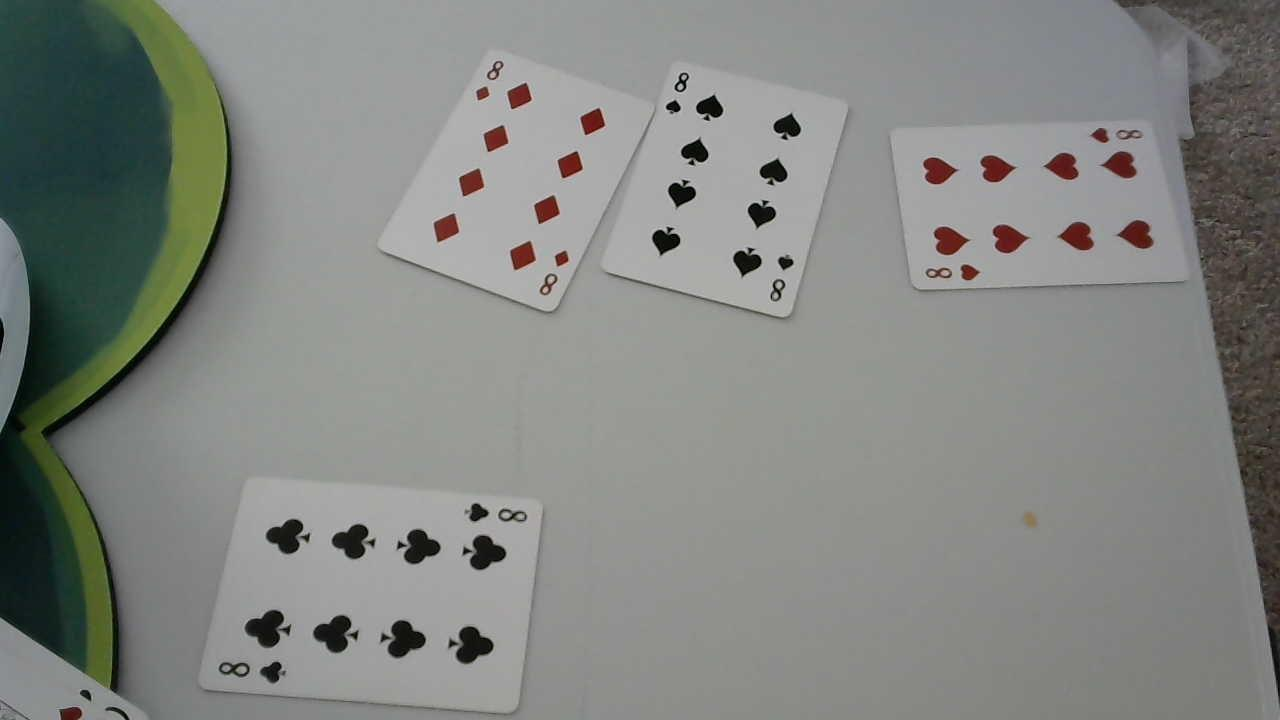8C: (216, 660, 291, 684)
8D: (536, 249, 573, 304), (473, 56, 506, 104)
8H: (1082, 117, 1146, 146), (920, 261, 987, 283)
8S: (766, 249, 798, 306), (664, 67, 693, 118)
